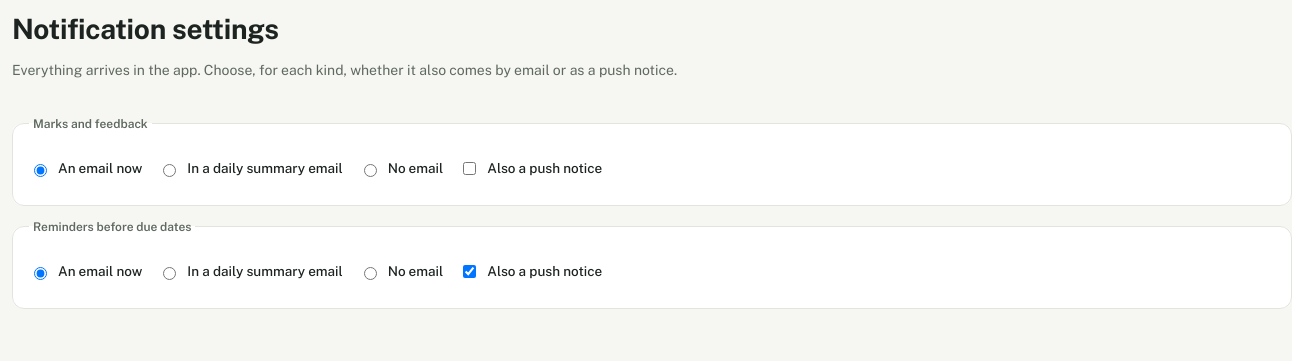
Scenario: notification settings (item 2.33) › says when the settings cannot be read or saved
Click the radio button labelled "No email" below "Marks and feedback".
click(370, 170)  # box [364,164,377,177]
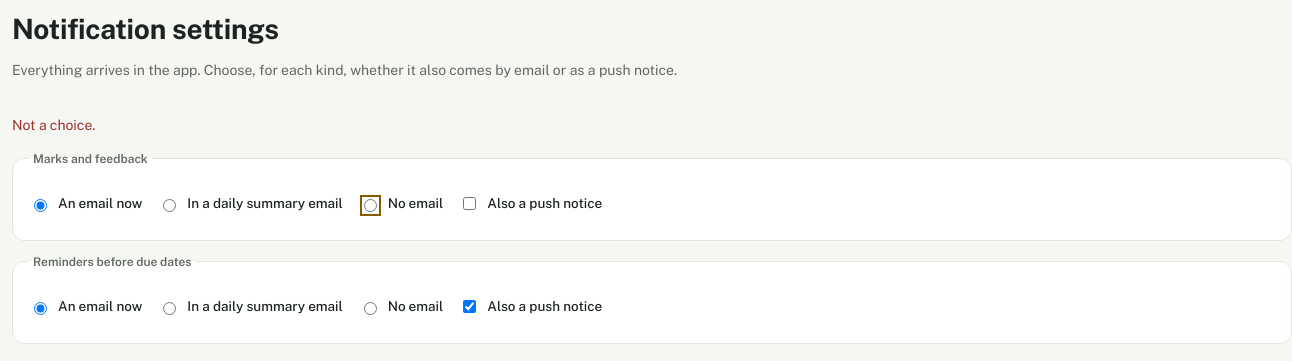
Expected: the message reads "Not a choice.", [12,117,96,133]
